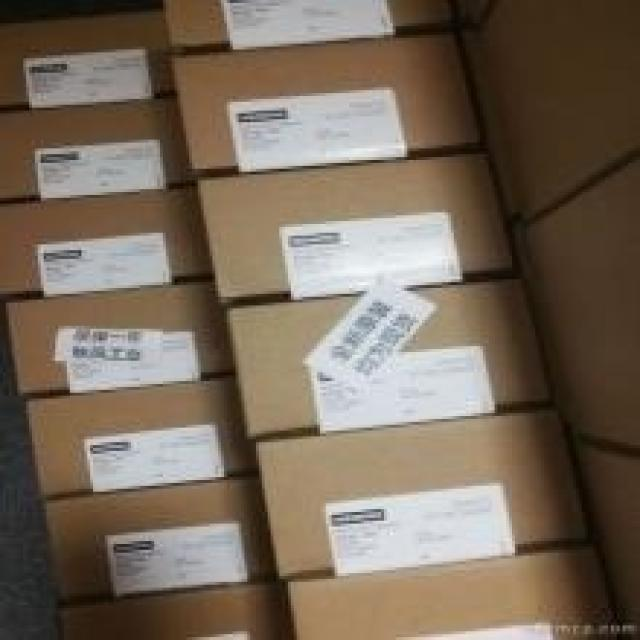box: (256, 405, 587, 581), (223, 274, 552, 440), (196, 150, 518, 307), (173, 30, 483, 179), (462, 3, 637, 231), (514, 157, 637, 457), (284, 544, 623, 637), (44, 473, 278, 604), (29, 374, 261, 500), (8, 284, 234, 398), (0, 182, 216, 301), (0, 93, 195, 201), (0, 8, 177, 111), (164, 1, 456, 56), (61, 577, 297, 637), (567, 437, 637, 637)
